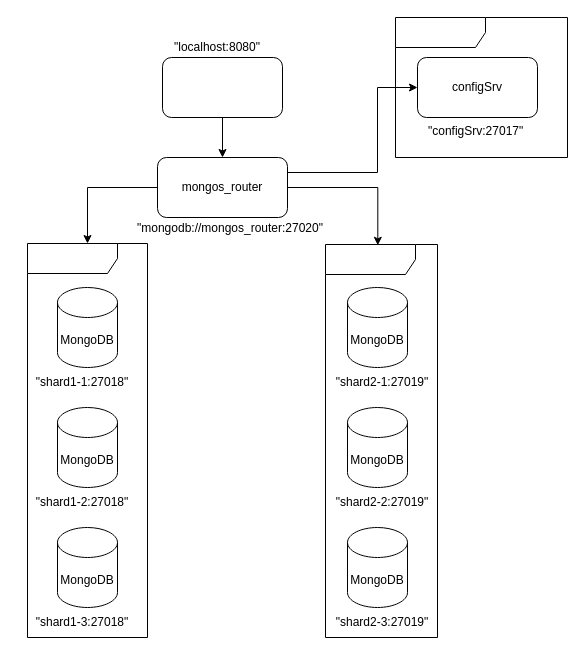
Some shapes in this 585 by 655 pixel diagram are drawn without their labels. The shapes that lost their labels are listed below. From the top down, each one's box as (x1, y1, x2, y2) in pixels, then its label:
(162, 56, 282, 118): pymongo-api
(394, 16, 568, 158): config_server - replicaset
(26, 242, 148, 638): shard1 - replicaset
(324, 244, 438, 638): shard2 - replicaset
